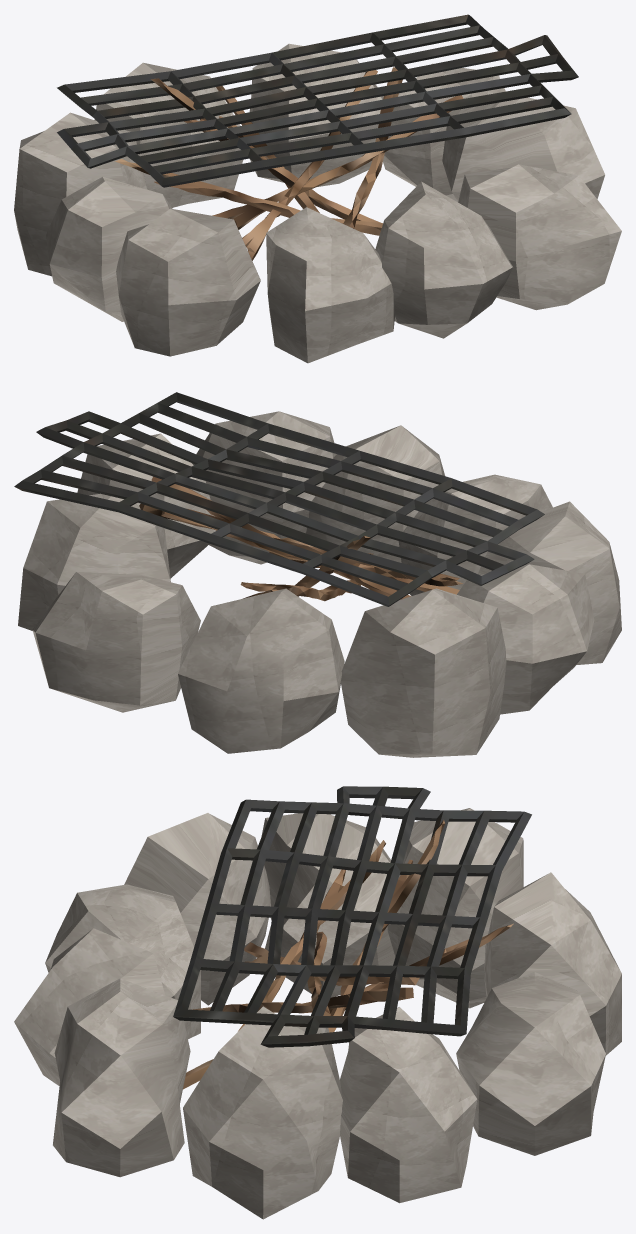
File: LP_Campfire.glb
3 views of the same model, one above another, from view 1: azimuth 30°, elevation 25°; view 2: azimuth 150°, elevation 25°; view 3: azimuth 270°, elevation 25° (orthographic). The views are drawn at different scales.
Parts seen in each view (by area): view 1: LP_Campfire; view 2: LP_Campfire; view 3: LP_Campfire.
Boxes of the visible parts, x1,y1,x2,y2 form: LP_Campfire: [14, 14, 621, 363]; LP_Campfire: [14, 392, 621, 757]; LP_Campfire: [14, 786, 621, 1219].
Size of the model in its own units: 1.58 by 0.5543 by 1.4.
3 materials, 3 textured.
